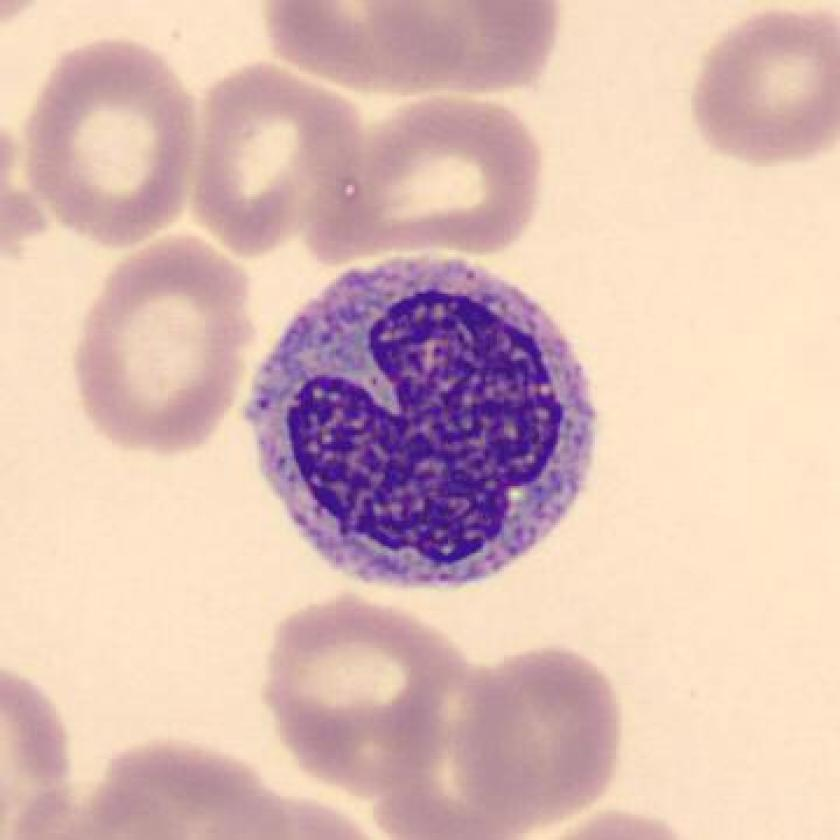monocyte: (232, 244, 619, 610)
